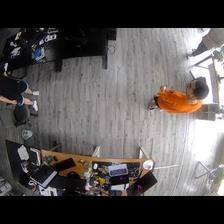normal: (147, 76, 210, 112), (1, 76, 40, 112)
